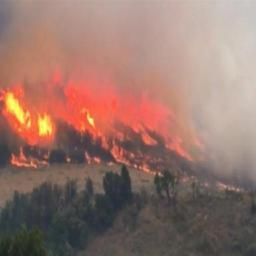Heavy smoke: (0, 0, 255, 187)
Medium fire: (0, 48, 200, 184)
